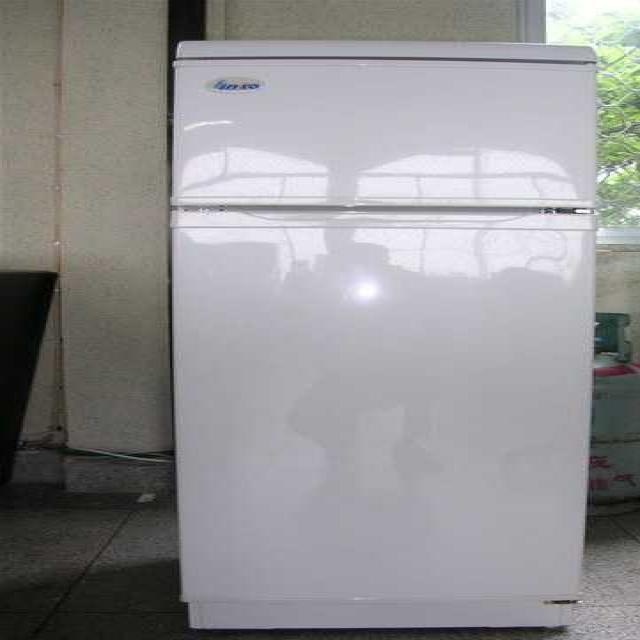refrigerator: (170, 36, 598, 628)
